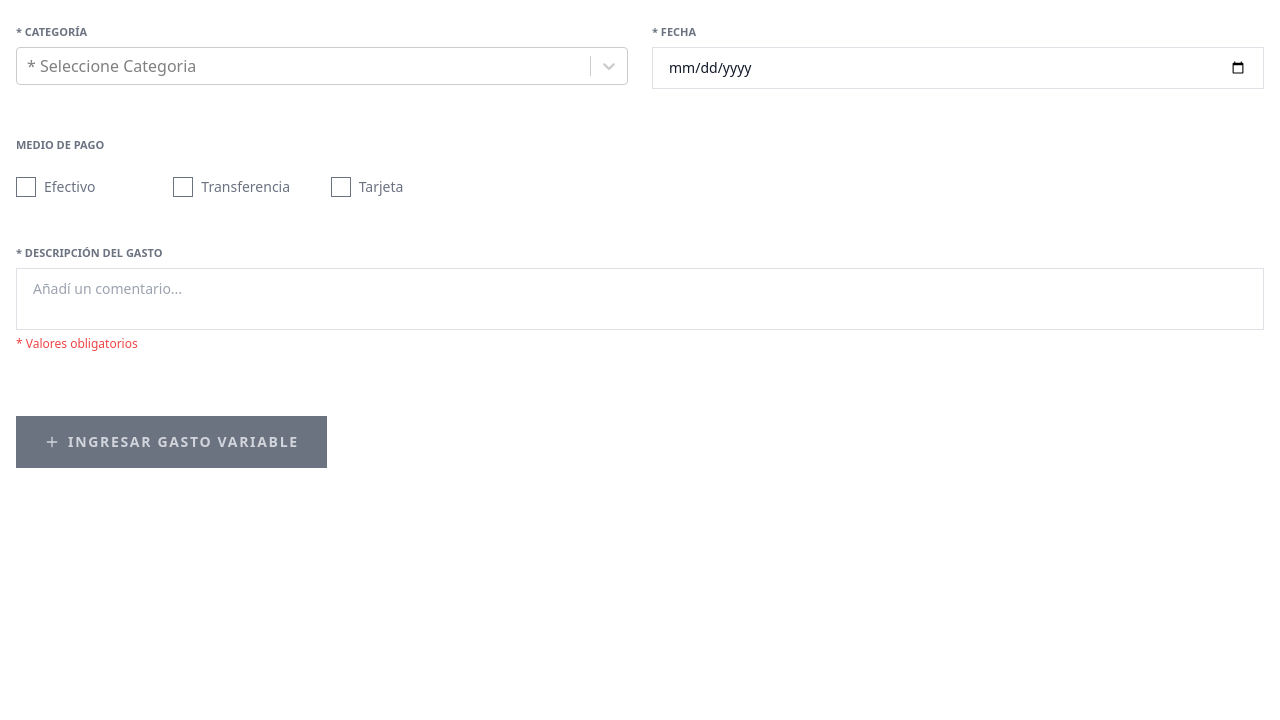
Test: FormGatosVar › El campo Tarjeta tiene un maximo de 10 caracteres y solo acepta numeros
Activo el checkbox Tarjeta
Click the checkbox labelled "Tarjeta" at (367, 187), box [331, 177, 403, 197]
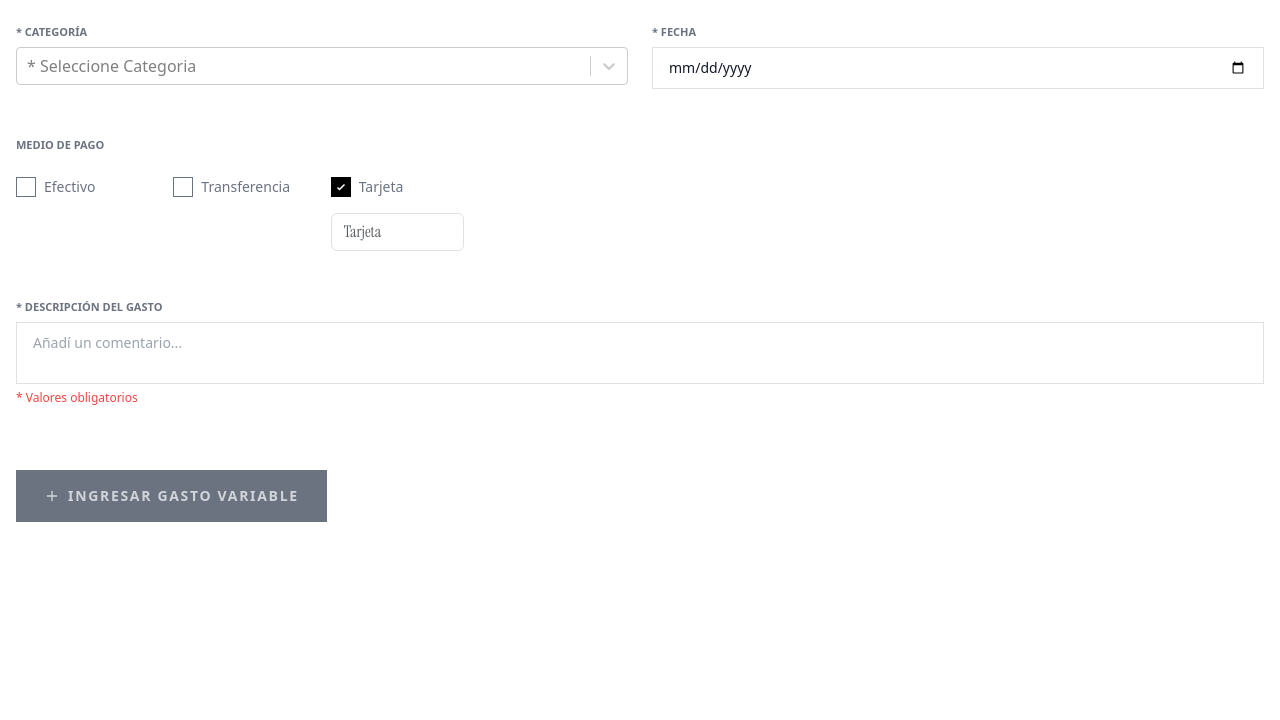
Escribir más de 10 caracteres (20 dígitos)
Type "12345678901234567890" into the field with placeholder "Tarjeta" at (397, 232), box [331, 213, 464, 251]
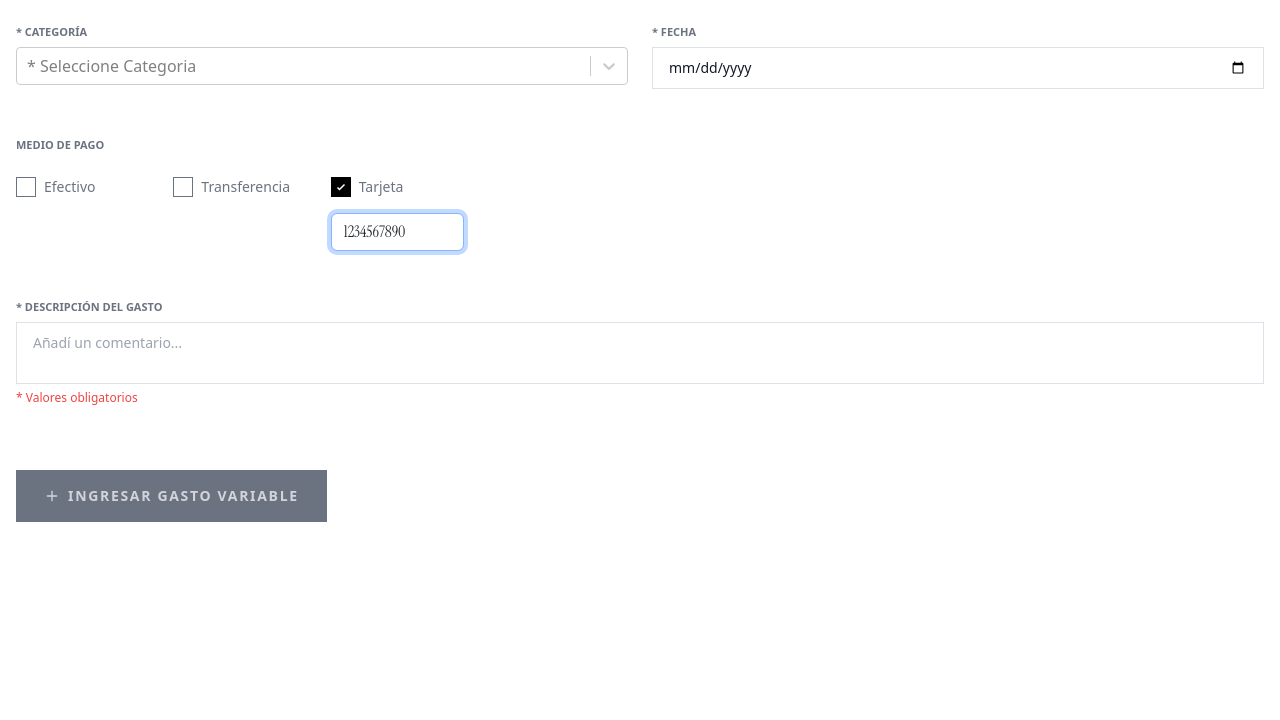
Expected: the field with placeholder "Tarjeta" holds "1234567890"
Intentamos escribir letras
Replace the text in the field with placeholder "Tarjeta" with "abc123" at (397, 232), box [331, 213, 464, 251]
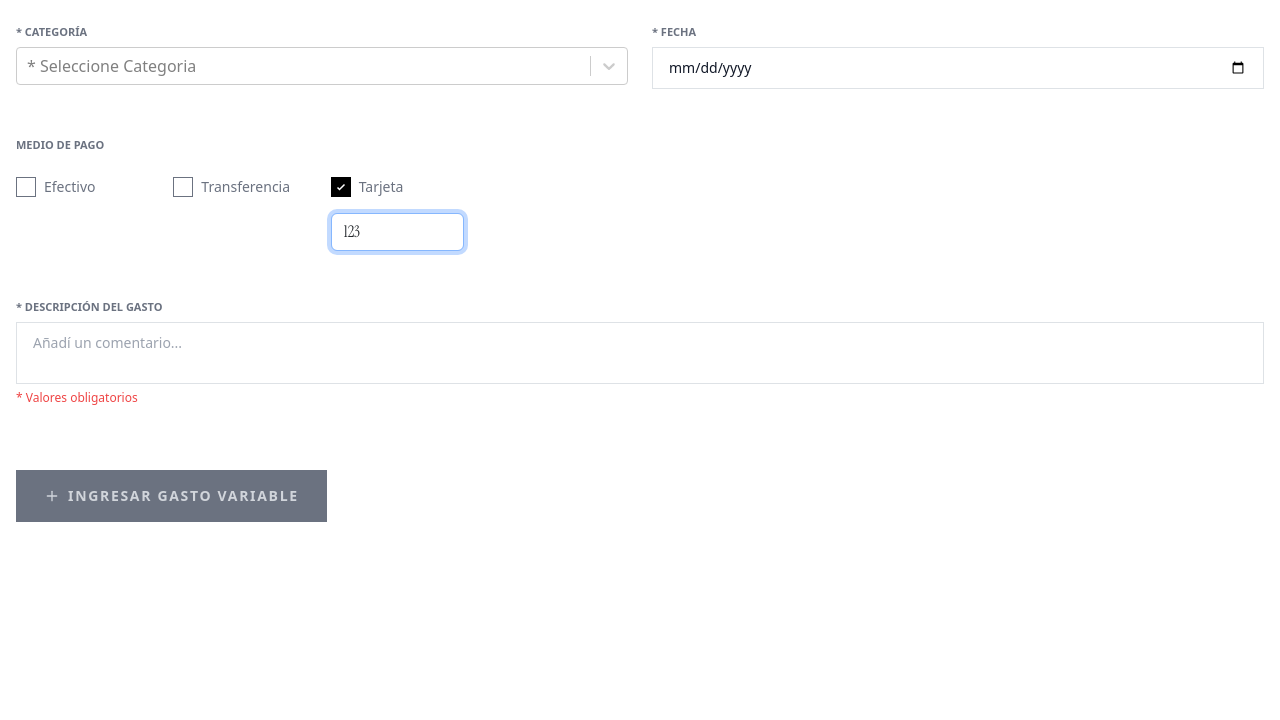
Expected: the field with placeholder "Tarjeta" holds "123", [331, 213, 464, 251]
